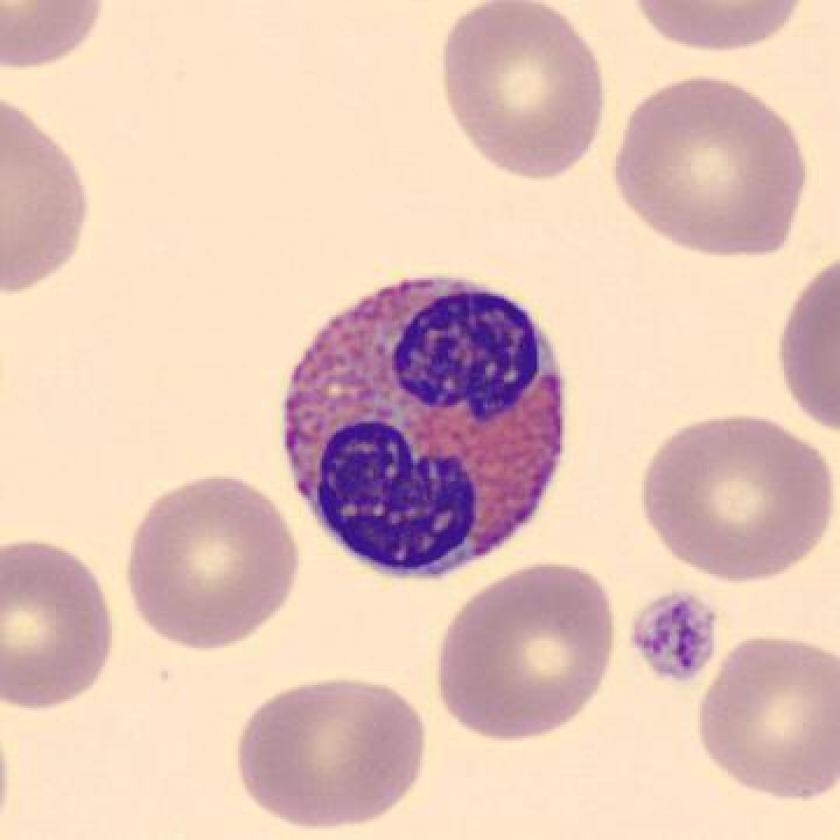eosinophil: (272, 258, 580, 593)
